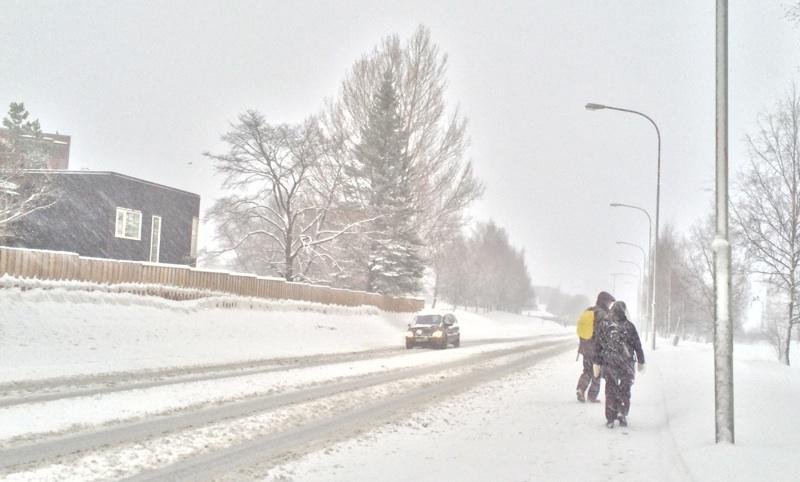car: (404, 310, 462, 349)
person: (593, 298, 645, 428), (574, 290, 619, 404)
